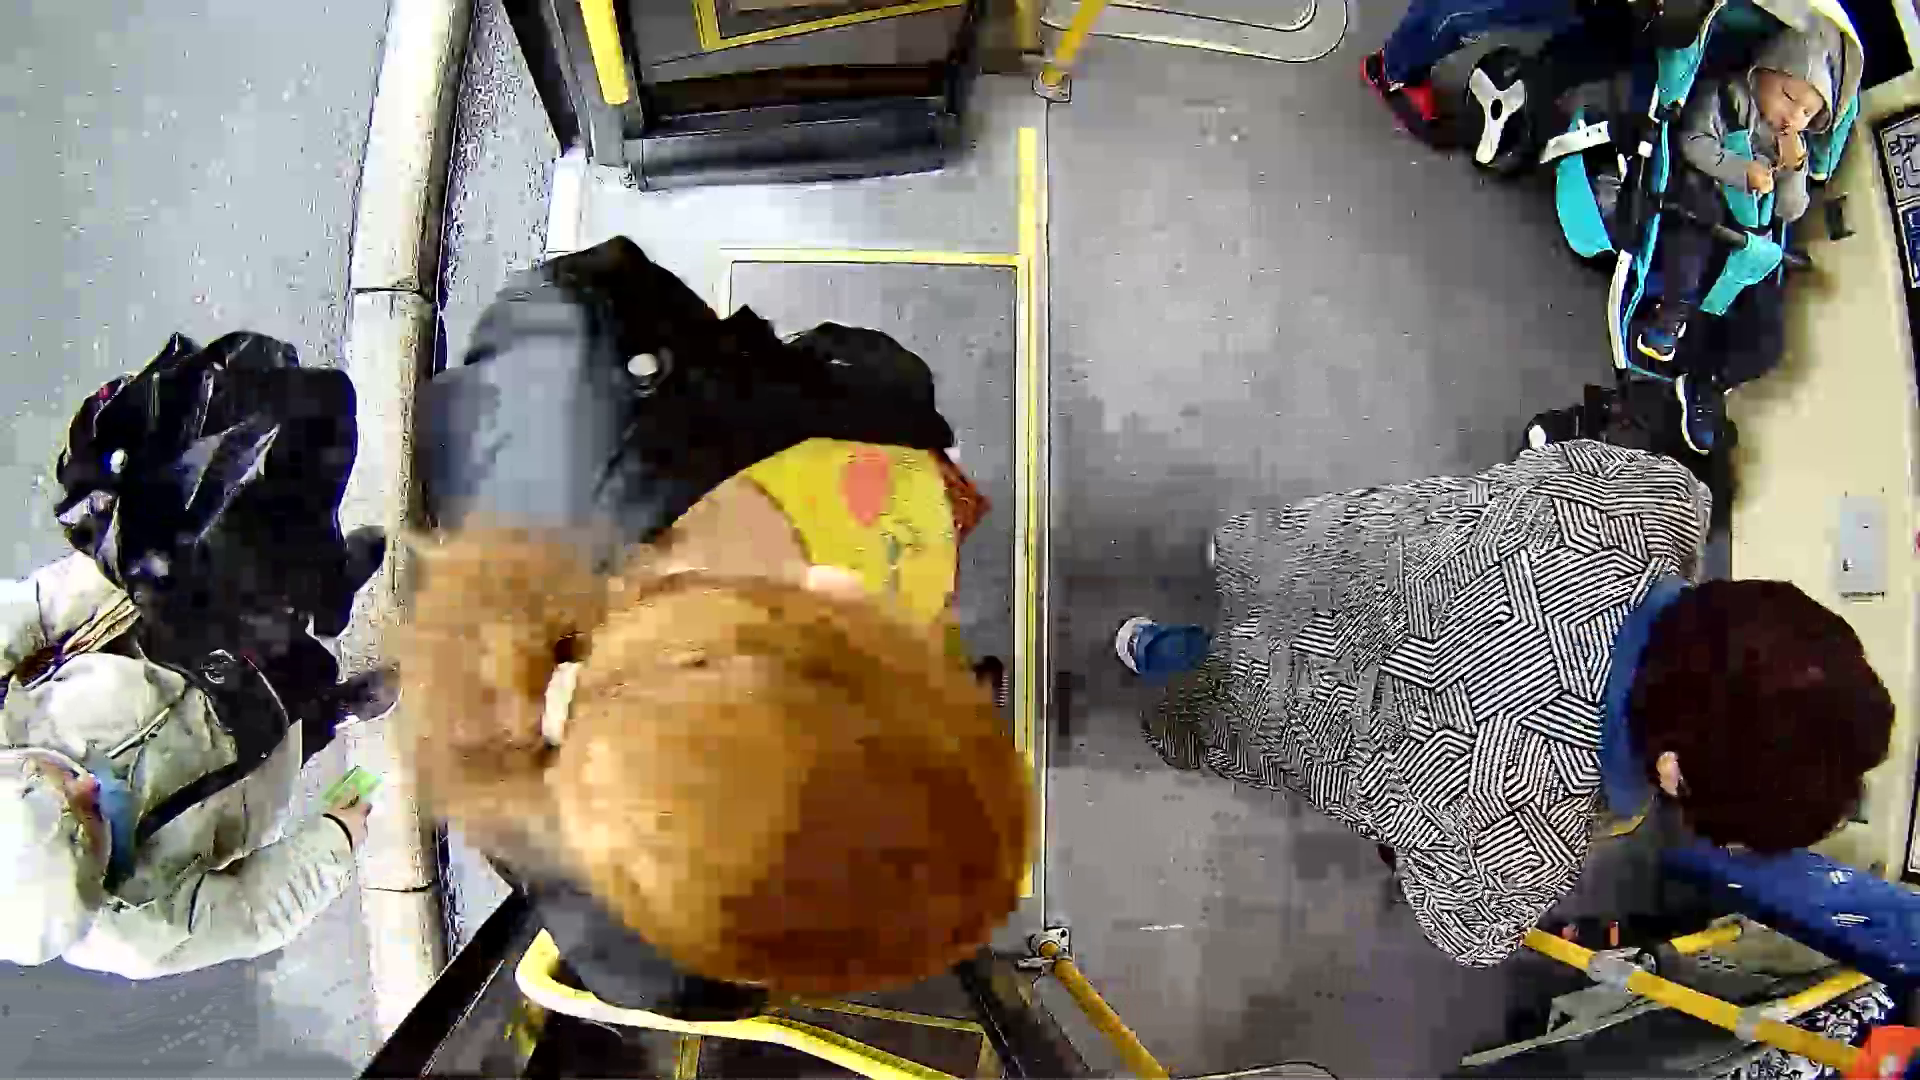person: (346, 292, 1096, 1036)
